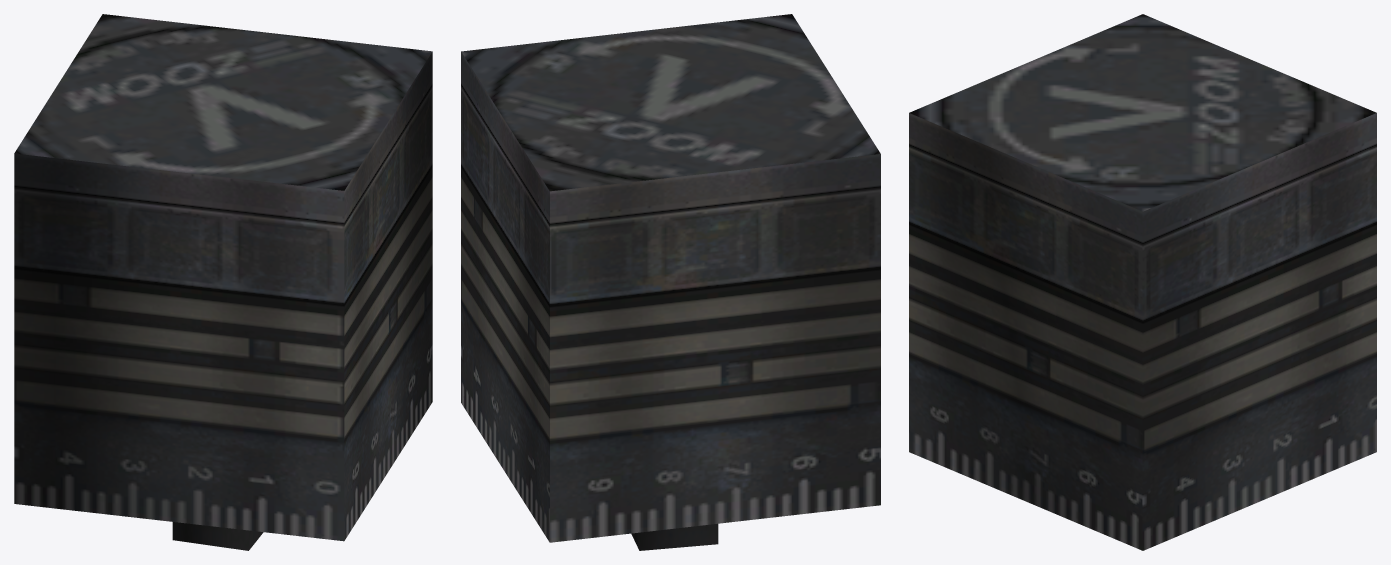
The model's file is t6_attach_optic_vzoom_xpr50_world_LOD1.obj.
3 renders of one model, left to right at view 1: azimuth 30°, elevation 25°; view 2: azimuth 150°, elevation 25°; view 3: azimuth 270°, elevation 25°, orthographic. The views are drawn at different scales.
Visible parts, largest first — view 1: mtl_t6_attach_optic_vzoom_xpr50; view 2: mtl_t6_attach_optic_vzoom_xpr50; view 3: mtl_t6_attach_optic_vzoom_xpr50.
Part boxes in pixels (box(x1,y1,x2,y2)): mtl_t6_attach_optic_vzoom_xpr50: box(14, 14, 432, 550); mtl_t6_attach_optic_vzoom_xpr50: box(461, 14, 880, 550); mtl_t6_attach_optic_vzoom_xpr50: box(909, 14, 1376, 550).
Size of the model in its own units: 3.93 by 3.84 by 3.93.
